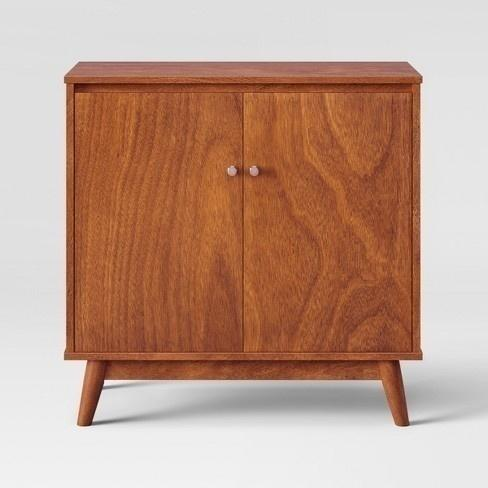cabinet_door: (245, 92, 415, 349), (79, 91, 246, 349)
handle: (75, 365, 412, 425), (227, 161, 241, 182), (248, 162, 260, 182)
